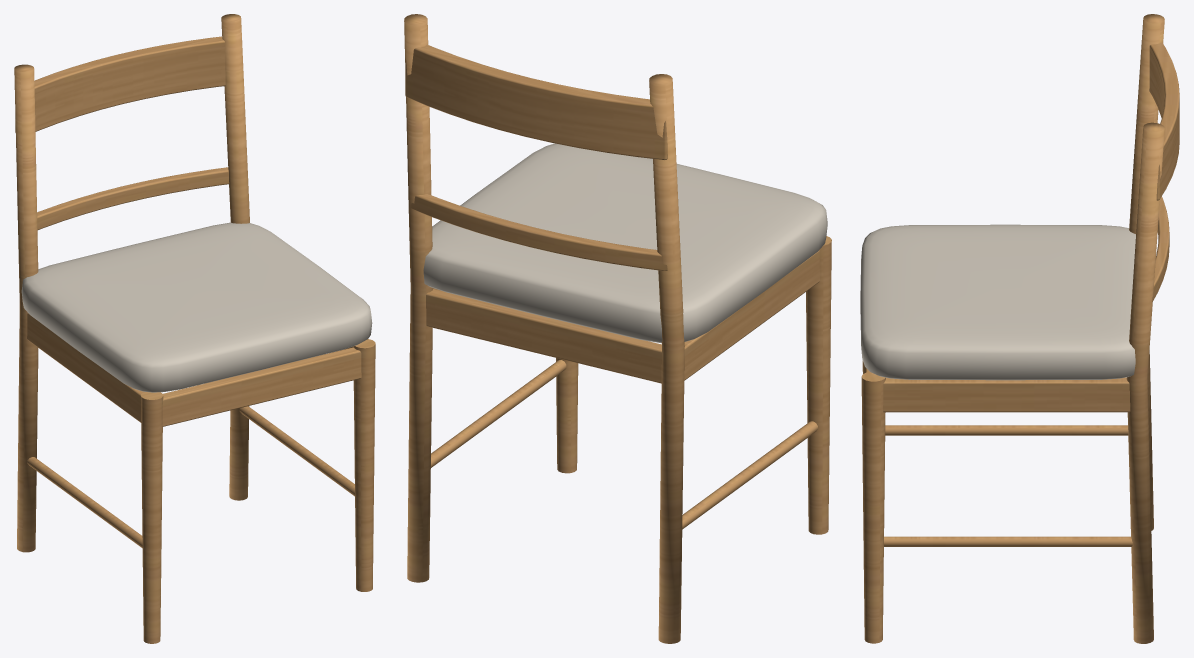
Rendered from dining_chair.glb.
The picture shows the model from 3 angles, left to right: view 1: azimuth 30°, elevation 25°; view 2: azimuth 150°, elevation 25°; view 3: azimuth 270°, elevation 25°; orthographic projection. The views are drawn at different scales.
Parts seen in each view (by area): view 1: dining_chair_seat, dining_chair_frame_legs, dining_chair_rails; view 2: dining_chair_seat, dining_chair_frame_legs, dining_chair_rails; view 3: dining_chair_seat, dining_chair_frame_legs, dining_chair_rails.
Boxes of the visible parts, bbox=[...] form: dining_chair_seat: bbox=[21, 222, 372, 392]; dining_chair_frame_legs: bbox=[14, 14, 375, 643]; dining_chair_rails: bbox=[15, 36, 361, 426]; dining_chair_seat: bbox=[423, 143, 827, 342]; dining_chair_frame_legs: bbox=[404, 14, 831, 643]; dining_chair_rails: bbox=[405, 44, 819, 383]; dining_chair_seat: bbox=[860, 224, 1135, 380]; dining_chair_frame_legs: bbox=[861, 14, 1164, 643]; dining_chair_rails: bbox=[865, 42, 1179, 412].
Size of the model in its own units: 0.45 by 0.8363 by 0.473.
Materials: 2 (1 with a texture image).
